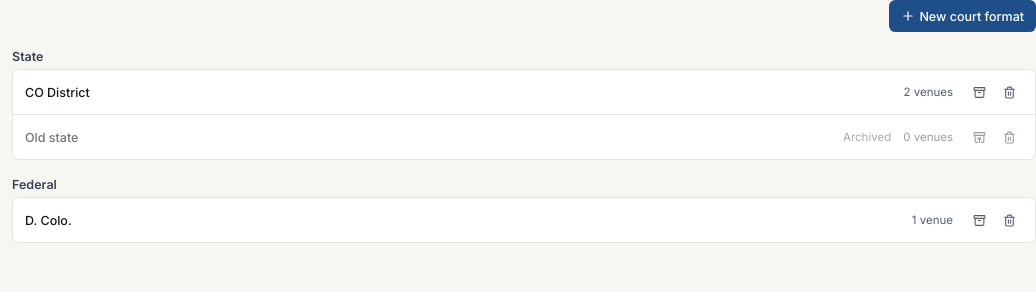
Test case: CourtFormatList › delete shows the server refusal inline
Click the button named "Delete CO District" at (1009,92), box [995,78,1023,106]
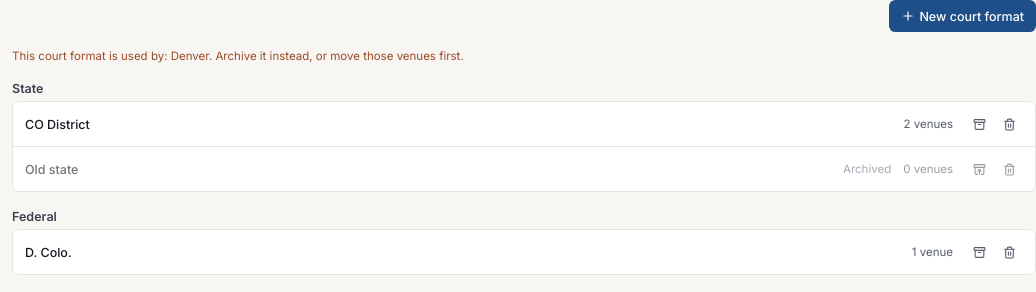
Now the text "This court format is used by: Denver. Archive it instead, or move those venues first." is shown, box [12,49,464,63]
